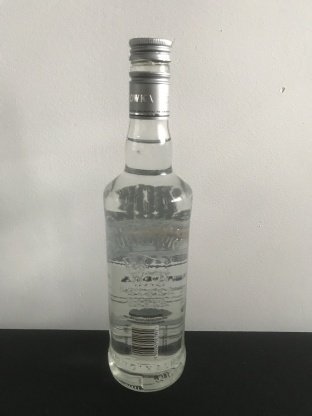nakretka: (126, 34, 174, 121)
